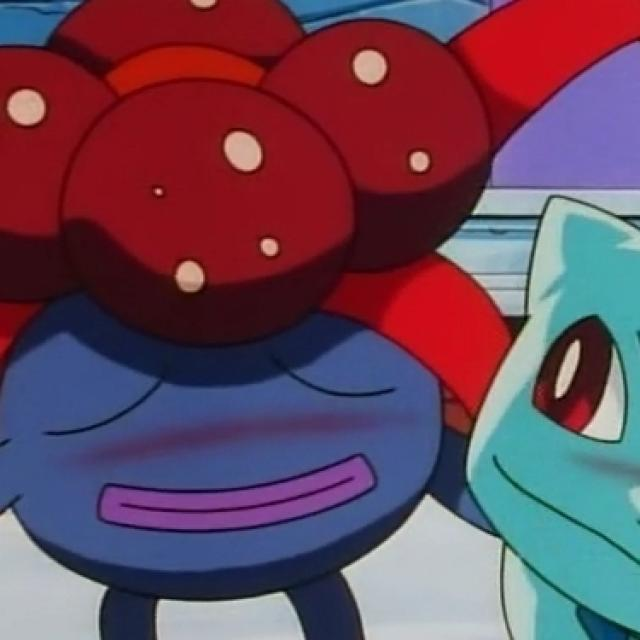Gloom: (0, 3, 493, 640)
